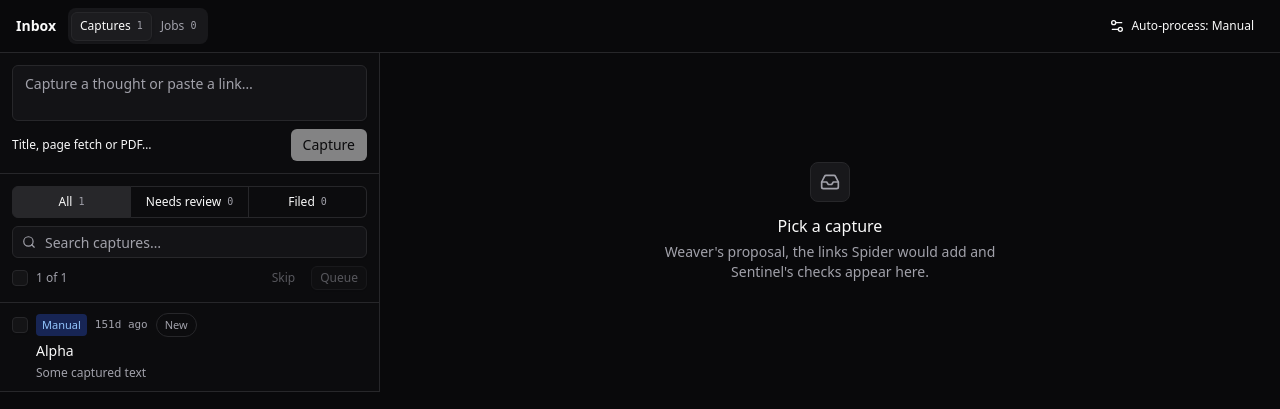
it: InboxView — bulk actions › toggling a single row checkbox enables the bulk actions
This screenshot has width=1280, height=409.
Step 1. Click the checkbox named "Select Alpha" → (20, 325), box [12,317,28,333]
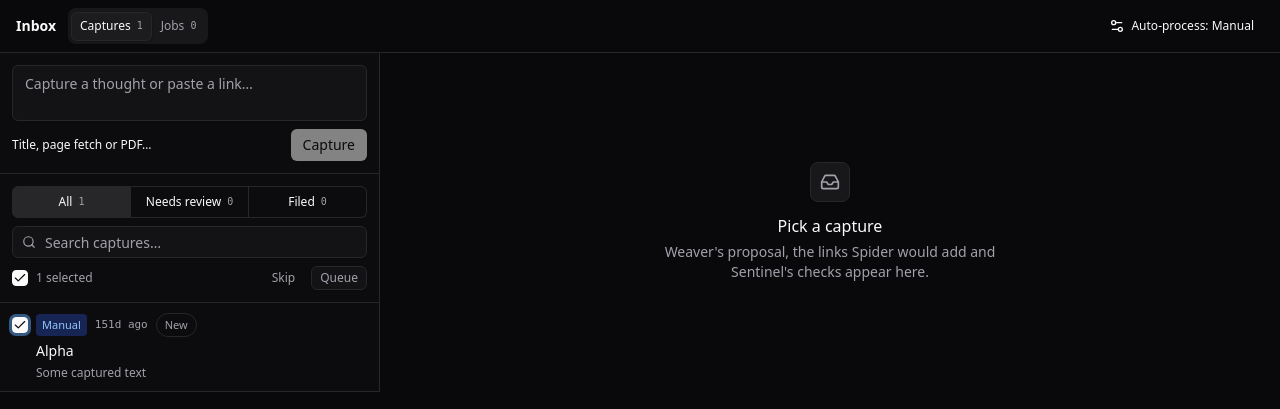
expect the button "Queue" is enabled: met, box [311,266,367,290]
expect the text "1 selected" is shown: met, box [36,270,93,286]
